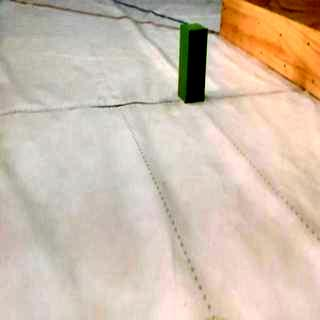greenbox: (177, 21, 210, 104)
